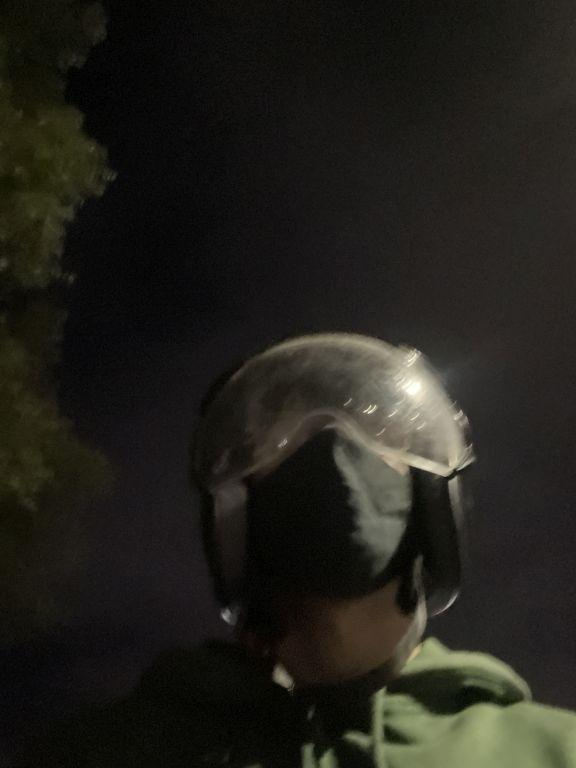helmet: (169, 305, 488, 638)
